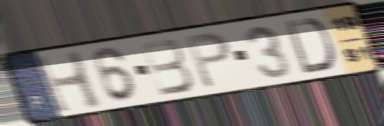3: (245, 24, 291, 80)
6: (90, 44, 137, 103)
B: (138, 37, 196, 98)
D: (282, 16, 337, 76)
H: (33, 49, 107, 116)
P: (182, 29, 234, 91)
